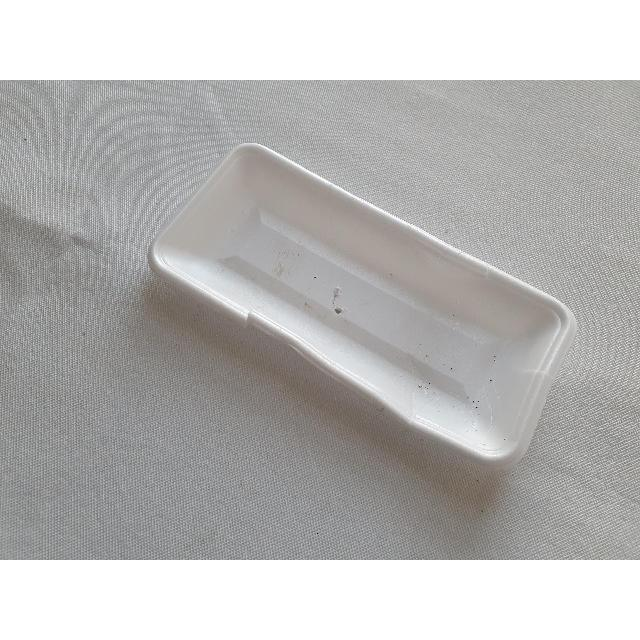Plastico descartable: (149, 144, 577, 503)
